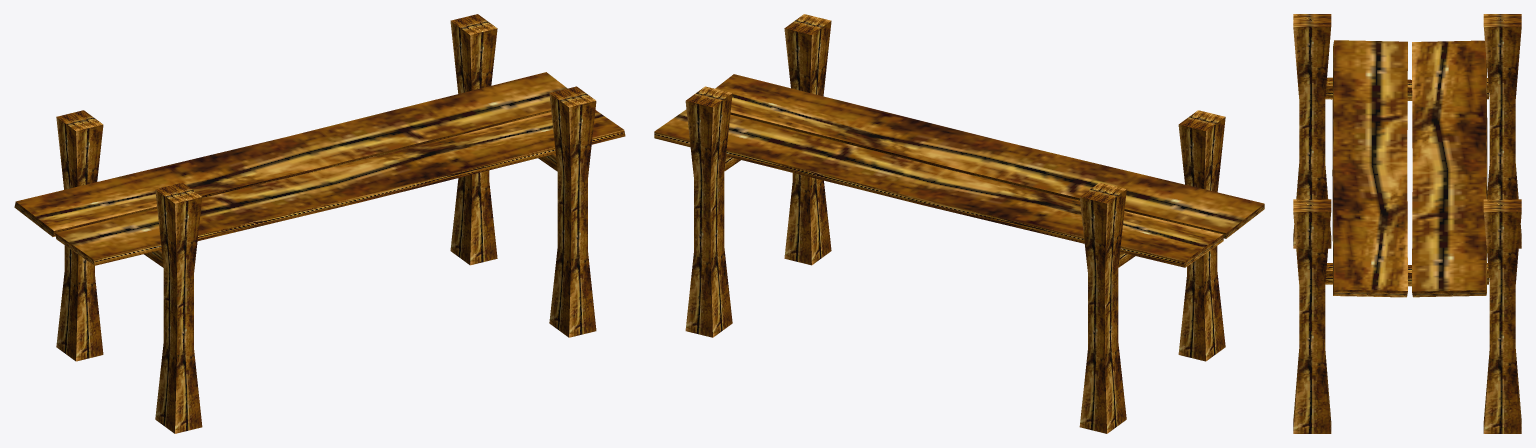
The model's file is MAINHALL_SCAFOLDING02.fbx.
3 renders of one model, left to right at view 1: azimuth 30°, elevation 25°; view 2: azimuth 150°, elevation 25°; view 3: azimuth 270°, elevation 25°, orthographic. The views are drawn at different scales.
Visible parts, largest first — view 1: MAINHALL_SCAFOLDING02; view 2: MAINHALL_SCAFOLDING02; view 3: MAINHALL_SCAFOLDING02.
Boxes of the visible parts, x1,y1,x2,y2 form: MAINHALL_SCAFOLDING02: (14,14,625,433); MAINHALL_SCAFOLDING02: (654,14,1264,433); MAINHALL_SCAFOLDING02: (1293,14,1521,433).
Size of the model in its own units: 31578 by 13072 by 12199.
1 material, 1 textured.
